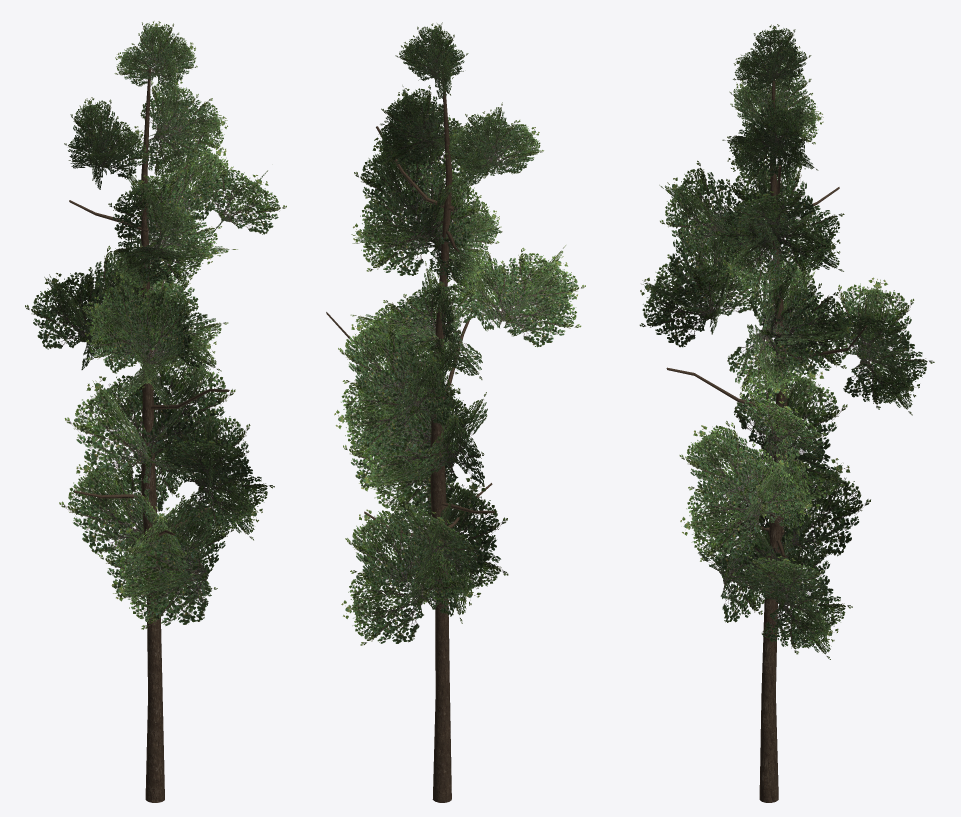
File: TallOak.fbx
The picture shows the model from 3 angles, left to right: view 1: azimuth 30°, elevation 25°; view 2: azimuth 150°, elevation 25°; view 3: azimuth 270°, elevation 25°; orthographic projection.
Visible parts, largest first — view 1: Oak; view 2: Oak; view 3: Oak.
Boxes of the visible parts, bbox=[...] form: Oak: bbox=[25, 21, 286, 802]; Oak: bbox=[326, 22, 585, 802]; Oak: bbox=[639, 24, 934, 802].
Size of the model in its own units: 1607 by 5495 by 2058.
